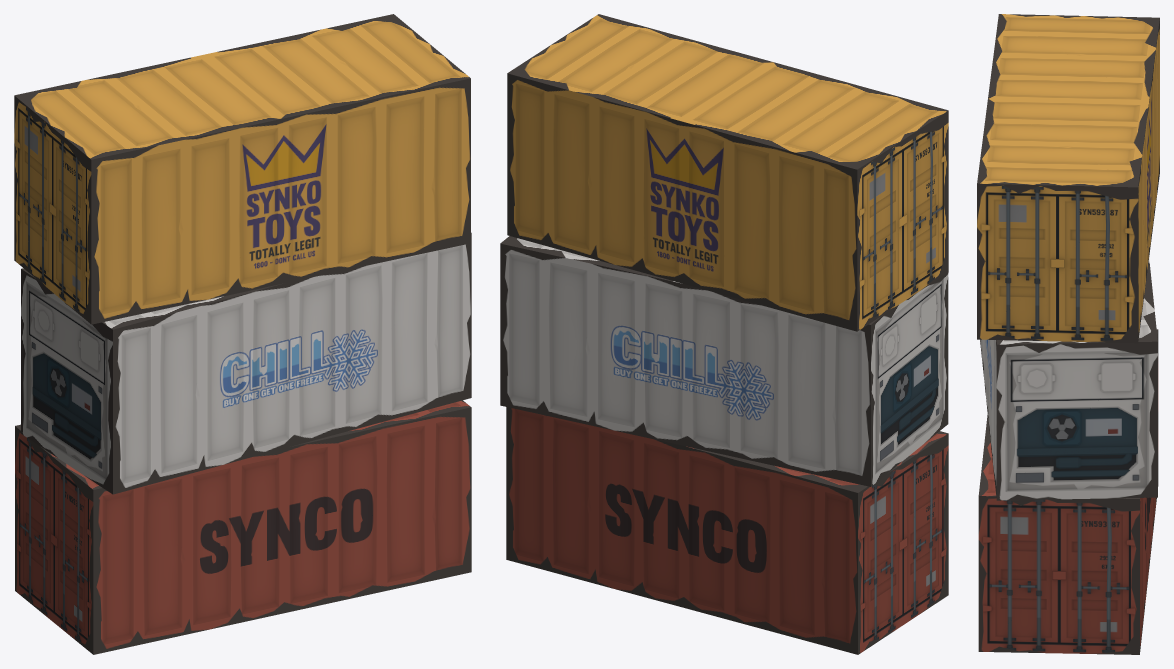
File: SM_Prop_Container_Stack_12.fbx
The picture shows the model from 3 angles, left to right: view 1: azimuth 30°, elevation 25°; view 2: azimuth 150°, elevation 25°; view 3: azimuth 270°, elevation 25°; orthographic projection. The views are drawn at different scales.
Visible parts, largest first — view 1: SM_Prop_Container_Stack_12; view 2: SM_Prop_Container_Stack_12; view 3: SM_Prop_Container_Stack_12.
Part boxes in pixels (bbox=[...]): SM_Prop_Container_Stack_12: bbox=[14, 14, 471, 654]; SM_Prop_Container_Stack_12: bbox=[500, 14, 948, 654]; SM_Prop_Container_Stack_12: bbox=[977, 14, 1159, 654].
Size of the model in its own units: 623 by 777 by 275.
